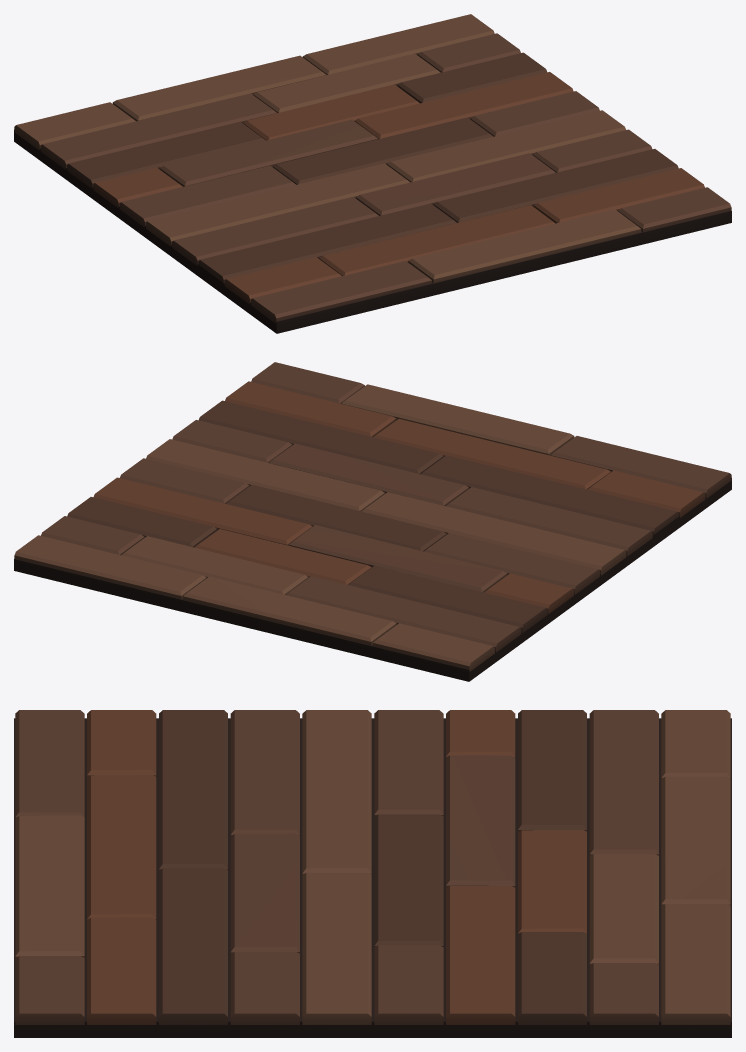
Rendered from floor_planks_dark_large_B.glb.
3 views of the same model, one above another, from view 1: azimuth 30°, elevation 25°; view 2: azimuth 150°, elevation 25°; view 3: azimuth 270°, elevation 25° (orthographic). The views are drawn at different scales.
Visible parts, largest first — view 1: Item; view 2: Item; view 3: Item.
Boxes of the visible parts, x1,y1,x2,y2 form: Item: [14, 14, 731, 333]; Item: [14, 362, 731, 681]; Item: [14, 710, 731, 1037].
Bounding box in the file's own units: 4 × 0.1573 × 4.
1 material, 1 textured.
